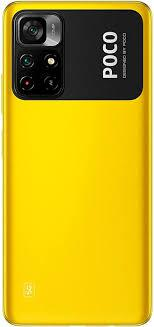Smartphone: (4, 4, 148, 322)
